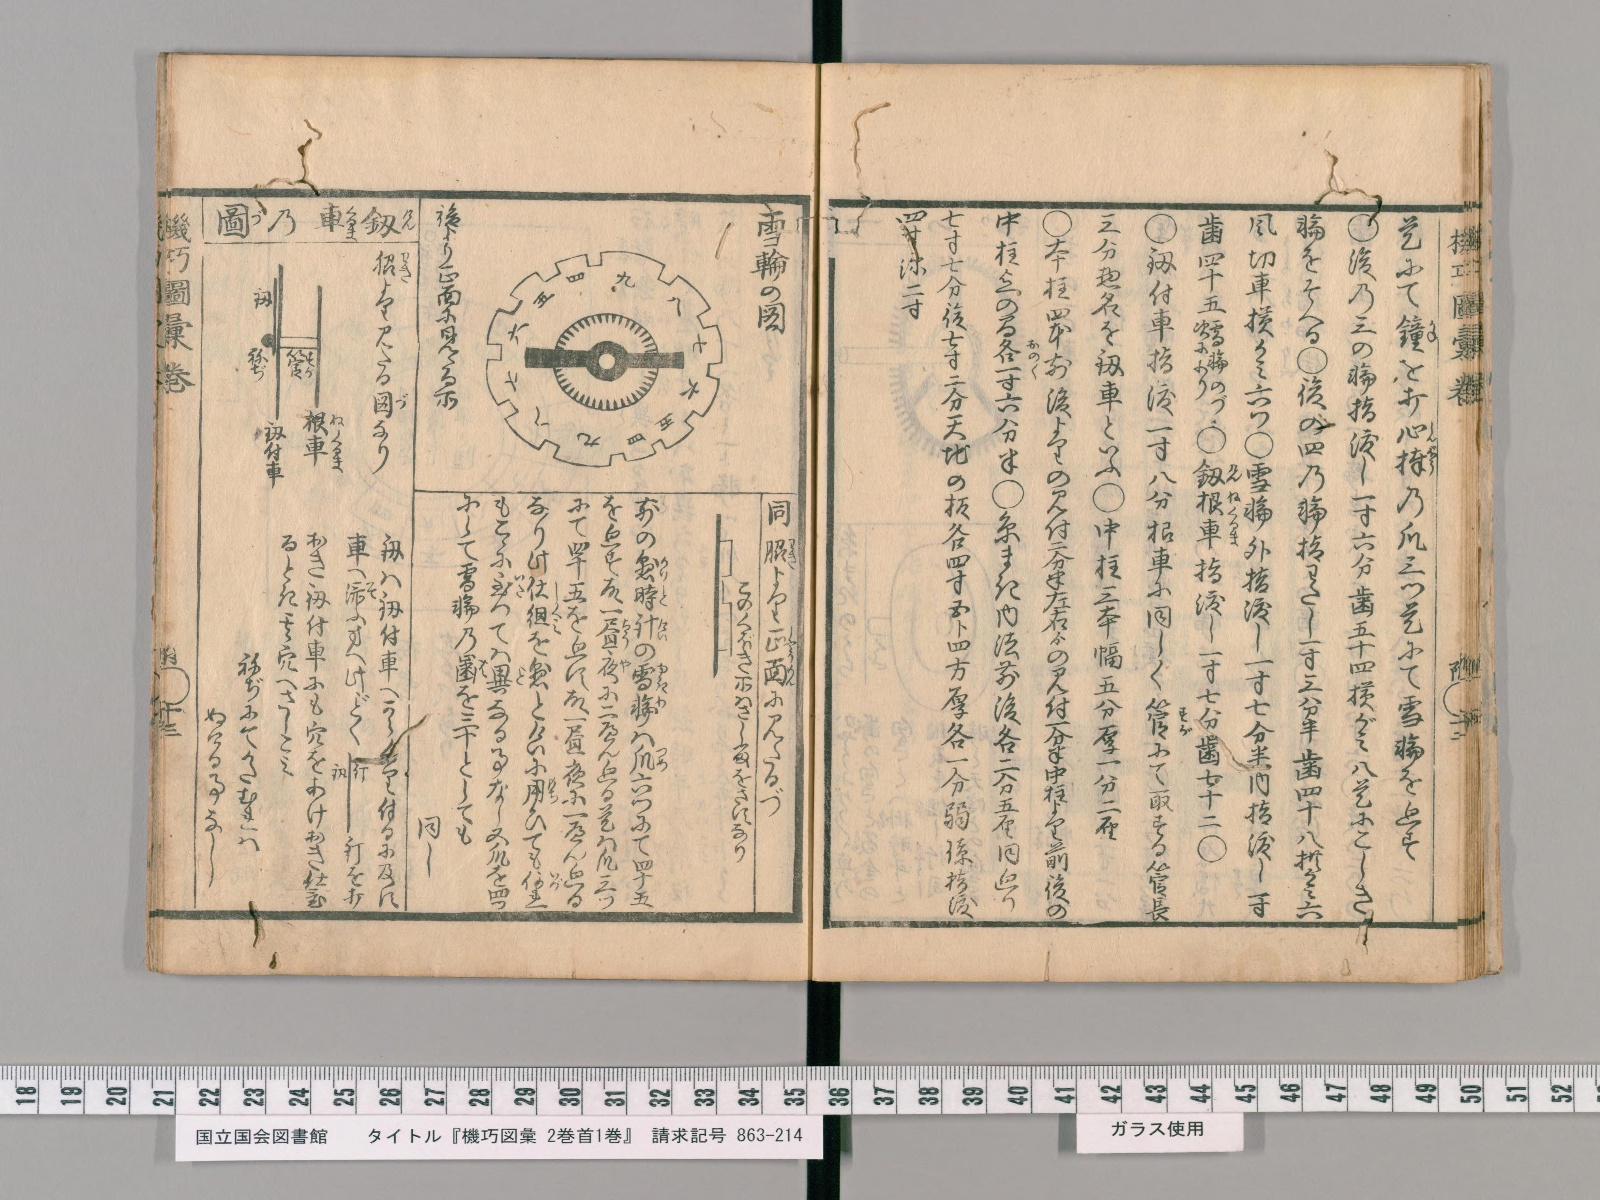1_overall: (147, 55, 1508, 992)
2_handwritten: (937, 208, 979, 921), (1241, 212, 1279, 921), (1143, 212, 1179, 921), (1293, 214, 1329, 921), (1346, 213, 1381, 916), (1041, 211, 1075, 921), (1090, 212, 1128, 843), (1392, 216, 1429, 862), (991, 209, 1024, 914), (1194, 424, 1228, 866), (593, 494, 627, 910), (519, 495, 553, 910), (484, 494, 514, 913), (561, 494, 590, 910), (450, 494, 483, 846), (629, 495, 656, 908), (757, 500, 792, 817), (304, 531, 333, 910), (375, 529, 402, 908), (729, 579, 755, 863), (370, 251, 401, 476), (236, 650, 266, 855), (273, 534, 299, 778), (341, 529, 369, 747), (433, 203, 462, 411), (202, 706, 231, 886), (750, 209, 789, 340), (896, 211, 929, 321), (1196, 213, 1230, 315), (1209, 319, 1231, 416), (343, 834, 365, 909), (416, 816, 442, 879), (262, 426, 289, 489), (1191, 318, 1211, 400), (302, 412, 330, 468), (351, 763, 370, 784), (331, 763, 348, 783)
3_typography: (358, 203, 401, 242), (214, 202, 252, 239), (265, 205, 299, 239), (315, 202, 346, 234)
4_illustration: (488, 250, 724, 468), (247, 261, 328, 424), (712, 511, 734, 679)
